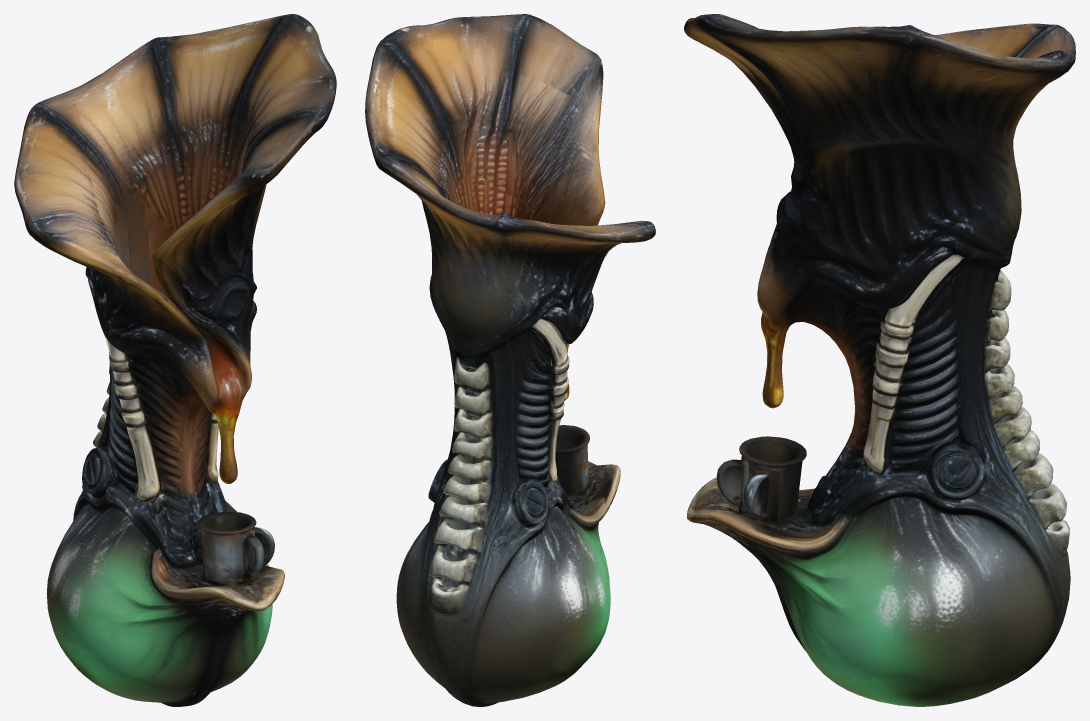
File: life_hive_dew_funnel.glb
3 views of the same model, side by side, from view 1: azimuth 30°, elevation 25°; view 2: azimuth 150°, elevation 25°; view 3: azimuth 270°, elevation 25° (orthographic). The views are drawn at different scales.
Parts seen in each view (by area): view 1: node_0; view 2: node_0; view 3: node_0.
Boxes of the visible parts, x1=… form: node_0: x1=14, y1=14, x2=336, y2=706; node_0: x1=365, y1=14, x2=655, y2=706; node_0: x1=684, y1=14, x2=1075, y2=706.
Size of the model in its own units: 0.4949 by 1.1 by 0.5247.
Materials: 1 (1 with a texture image).
